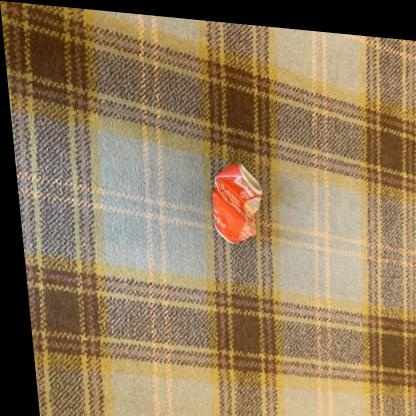trash: (213, 163, 262, 243)
